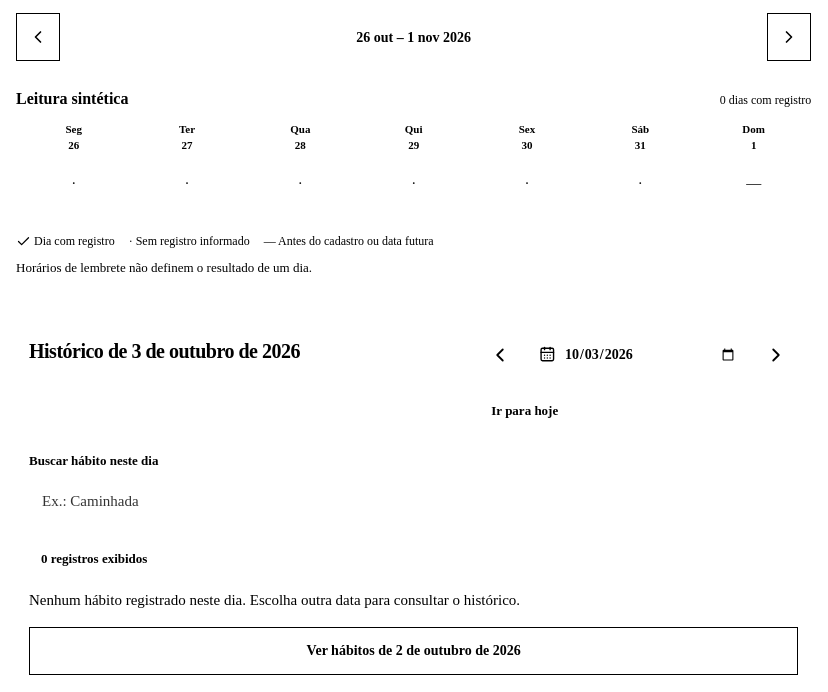
Scenario: atalho experimental ao último dia com hábito › não oferece o atalho durante uma busca
(page scrolled)
Type "outra" into the search field labelled "Buscar hábito neste dia" at coordinates (414, 501), box [29, 477, 798, 525]
(page scrolled)
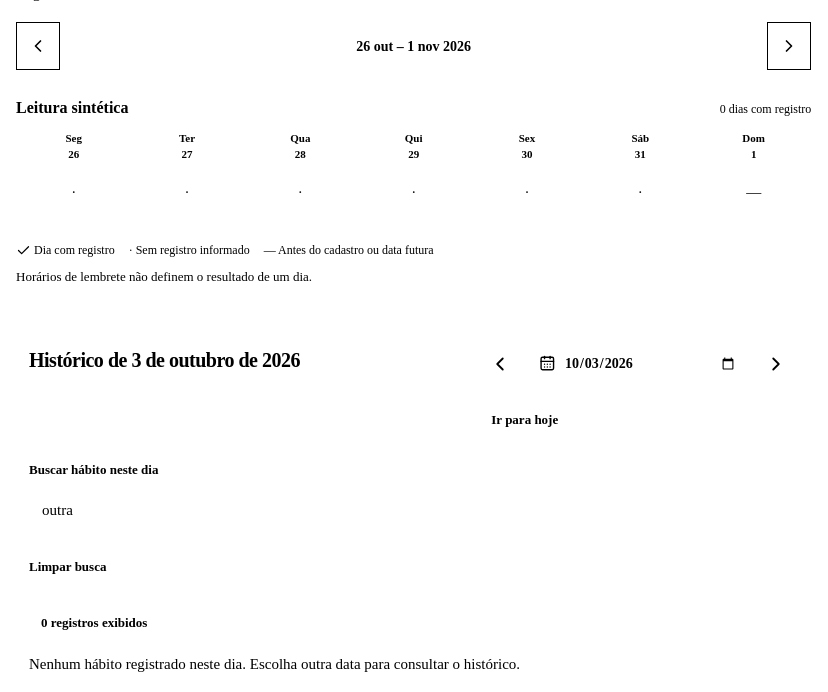
Expected: the button "Ver hábitos de" is gone
